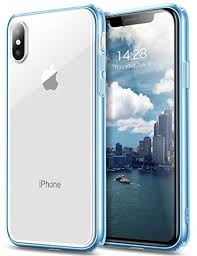iphone: (3, 1, 106, 253)
iphone10: (3, 3, 189, 252), (4, 3, 106, 255), (98, 2, 189, 255)
